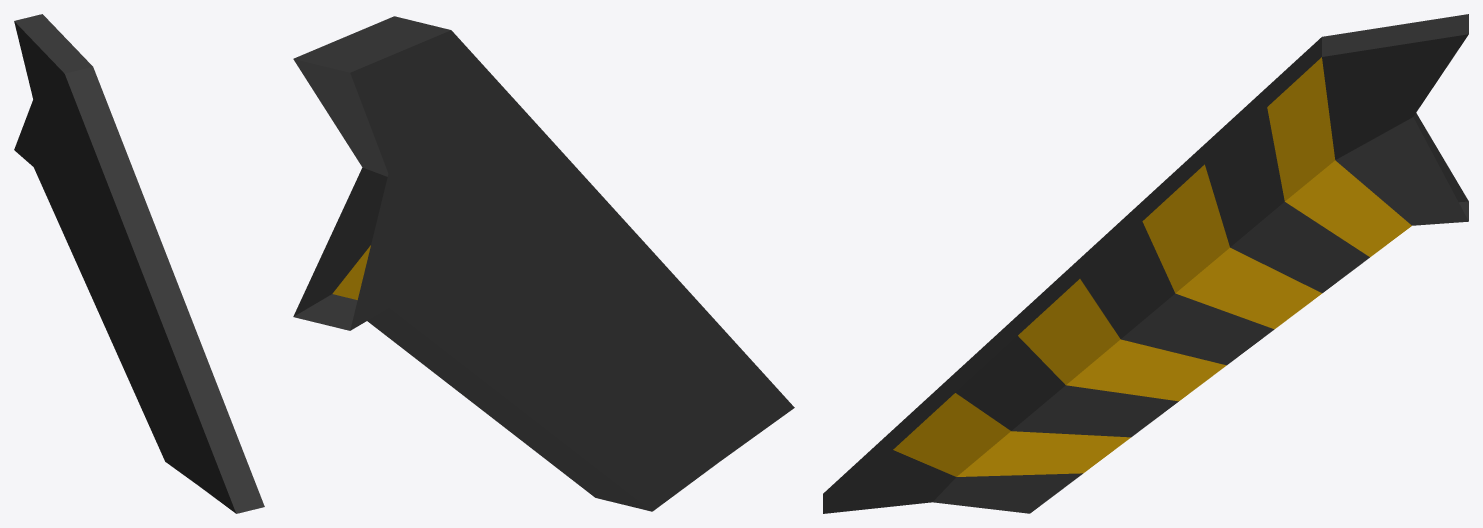
File: road_fence_chunk_asc.fbx
The picture shows the model from 3 angles, left to right: view 1: azimuth 30°, elevation 25°; view 2: azimuth 150°, elevation 25°; view 3: azimuth 270°, elevation 25°; orthographic projection. The views are drawn at different scales.
Parts seen in each view (by area): view 1: Cube.003; view 2: Cube.003; view 3: Cube.003.
Part boxes in pixels (x1=…): Cube.003: x1=14, y1=14, x2=264, y2=513; Cube.003: x1=293, y1=16, x2=794, y2=511; Cube.003: x1=823, y1=14, x2=1468, y2=513.
Bounding box in the file's own units: 28.14 × 311 × 380.
